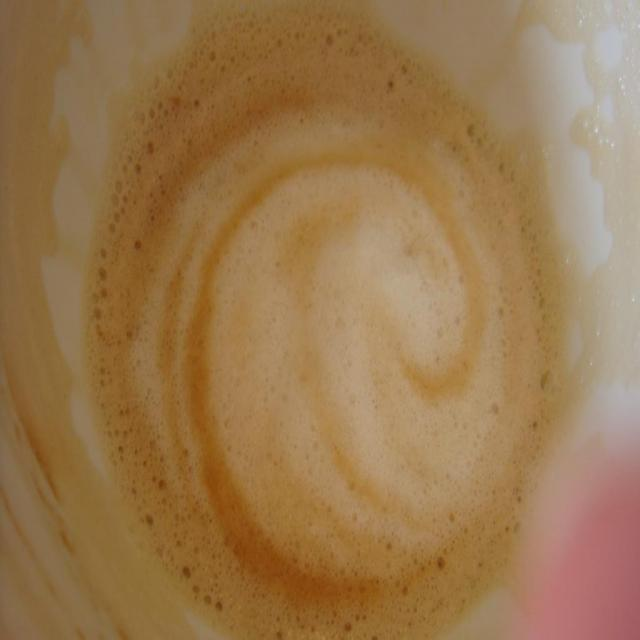Coffee: (88, 20, 564, 640)
